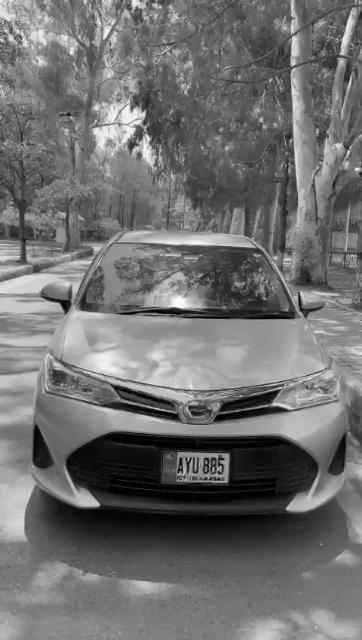Number: (176, 454, 226, 476)
